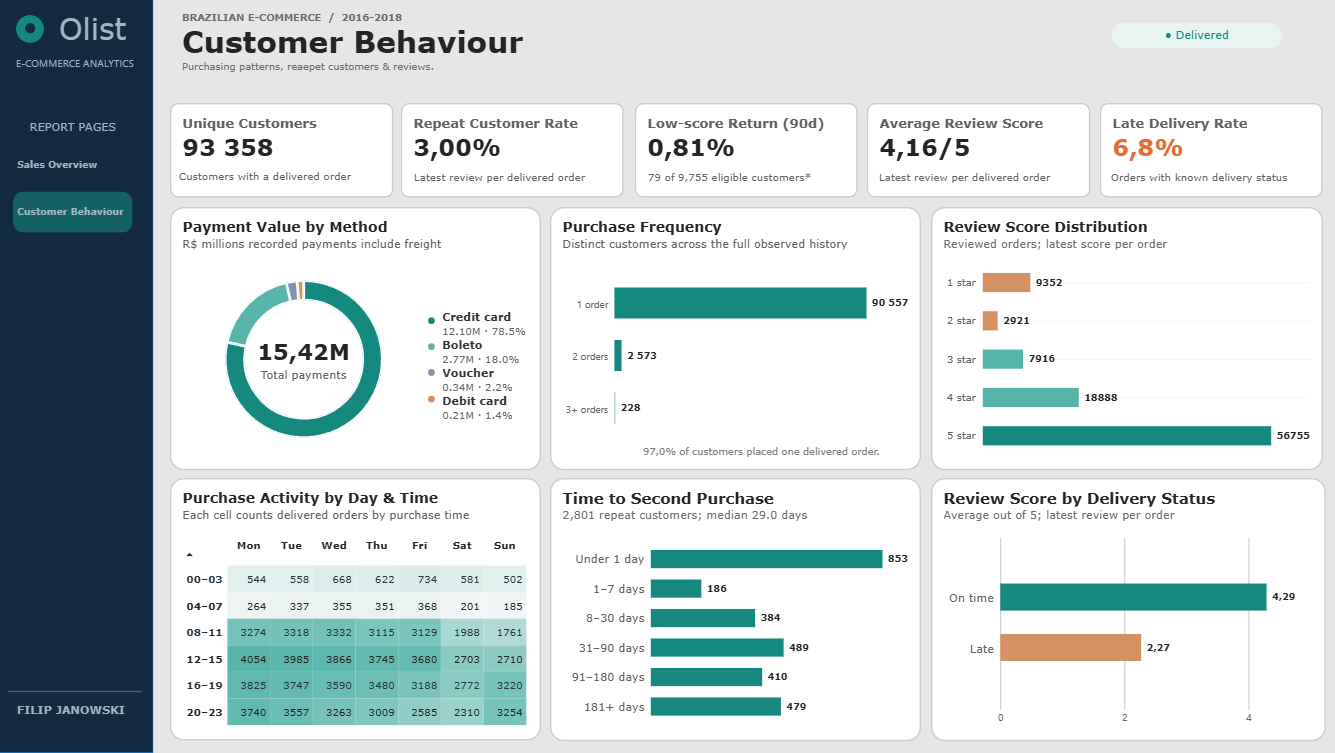

Layout of this report page (visuals, bound fields, positions):
{"tool":"powerbi","page":{"name":"Customer Behaviour","canvas":[1920,1080],"ordinal":1},"visuals":[{"type":"cardVisual","fields":{"Data":["Orders.Late Delivery Rate"]},"box":[1575.3,151.1,318,135],"z":0,"group":"g2"},{"type":"cardVisual","fields":{"Data":["Customer Summary.Unique Customers"]},"box":[247.1,151.4,318.6,135],"z":0,"group":"g1"},{"type":"cardVisual","fields":{"Data":["Customer Summary.Repeat Customer Rate"]},"box":[577.1,151.4,318,135],"z":0,"group":"g5"},{"type":"cardVisual","fields":{"Data":["Orders.Average Review Score1"]},"box":[1242.9,151.4,318.7,135],"z":0,"group":"g4"},{"type":"cardVisual","fields":{"Data":["Customer Summary.Low-score Return (90d)"]},"box":[911.1,151.6,318,135],"z":0,"group":"g3"},{"type":"clusteredBarChart","title":"Time to Second Purchase","fields":{"Category":["Customer Summary.ReturnTimeBand"],"Y":["Customer Summary.Unique Customers"]},"box":[790,687.1,530,375.7],"z":0},{"type":"shape","box":[0,0,223.2,1079.6],"z":1000},{"type":"shape","box":[27.2,25.2,40,40],"z":2000},{"type":"shape","box":[39.7,37.6,15,15],"z":3000},{"type":"pivotTable","title":"Purchase Activity by Day & Time","fields":{"Columns":["Orders.Purchase Weekday"],"Rows":["Orders.Purchase Hour Band"],"Values":["Orders.Delivered Orders"]},"box":[247.1,687.1,530,375],"z":4000},{"type":"textbox","box":[27.1,84.3,170,34.3],"z":5000},{"type":"textbox","box":[263.6,18.2,585.5,110],"z":6000},{"type":"group","id":"g1","title":"Group 1","box":[247.1,151.4,318.6,134.3],"z":7000},{"type":"group","id":"g2","title":"Group 2","box":[1575.3,151.1,318,135],"z":8000},{"type":"group","id":"g3","title":"Group 2","box":[911.1,151.6,318.4,135.8],"z":9000},{"type":"pageNavigator","title":"REPORT PAGES","box":[22.9,175.7,171.4,162.9],"z":10000},{"type":"textbox","box":[88.3,18.3,123.3,66.7],"z":11000},{"type":"actionButton","box":[1592.9,37.1,242.9,35.7],"z":13000},{"type":"textbox","box":[1590.5,246.4,294.9,28.6],"z":13000,"group":"g2"},{"type":"textbox","box":[596.1,246.7,277.4,29.7],"z":13000,"group":"g5"},{"type":"textbox","box":[929,247,249.8,28.8],"z":13000,"group":"g3"},{"type":"textbox","box":[1259.6,247.1,277.5,22.5],"z":13000,"group":"g4"},{"type":"textbox","box":[259.3,245.1,289.6,30.8],"z":14000,"group":"g1"},{"type":"textbox","box":[28.6,1008,164.3,34.3],"z":14000},{"type":"shape","box":[15,975,191.4,32.9],"z":15000},{"type":"donutChart","title":"Payment Value by Method","fields":{"Category":["Payments.payment_type"],"Y":["Payments.Payment Value"]},"box":[247.1,300,530,375.7],"z":17000,"group":"g6"},{"type":"clusteredBarChart","title":"Purchase Frequency","fields":{"Category":["Customer Summary.FrequencyGroup"],"Y":["Customer Summary.Unique Customers"]},"box":[790,300,530,375.7],"z":17000},{"type":"clusteredBarChart","title":"Review Score Distribution","fields":{"Category":["Orders.review_score"],"Y":["Orders.Reviewed Orders"]},"box":[1334.3,300,560,375.7],"z":18000},{"type":"clusteredBarChart","title":"Review Score by Delivery Status","fields":{"Category":["Orders.Delivery Timeliness"],"Y":["Orders.Average Review Score"]},"box":[1334.3,687.1,564.3,375.7],"z":19000},{"type":"group","id":"g4","title":"Group 2","box":[1242.9,151.4,318.7,135],"z":20000},{"type":"group","id":"g5","title":"Group 2","box":[577.1,151.4,318.6,135.7],"z":21000},{"type":"group","id":"g6","title":"Group 3","box":[247.1,300,530,375.7],"z":22000},{"type":"cardVisual","title":"Credit card","fields":{"Data":["Payments.Payment Legend Details"]},"box":[619.7,446.6,160,40],"z":23000},{"type":"cardVisual","title":"Credit card","fields":{"Data":["Payments.Payment Legend Details"]},"box":[619.7,486.6,160,40],"z":24000},{"type":"cardVisual","title":"Credit card","fields":{"Data":["Payments.Payment Legend Details"]},"box":[619.7,526.6,160,40],"z":25000},{"type":"cardVisual","title":"Credit card","fields":{"Data":["Payments.Payment Legend Details"]},"box":[619.7,566.6,160,40],"z":26000}]}

Visuals, with their boxes on the page's 1920x1080 design canvas (x1, y1, x2, y2). These are canvas units, not pixel positions in the 1335x753 screenshot, which may show the page scaled, cropped or inside an application window:
cardVisual - Orders.Late Delivery Rate: (1575,151,1893,286)
cardVisual - Customer Summary.Unique Customers: (247,151,566,286)
cardVisual - Customer Summary.Repeat Customer Rate: (577,151,895,286)
cardVisual - Orders.Average Review Score1: (1243,151,1562,286)
cardVisual - Customer Summary.Low-score Return (90d): (911,152,1229,287)
"Time to Second Purchase" clusteredBarChart: (790,687,1320,1063)
shape: (0,0,223,1080)
shape: (27,25,67,65)
shape: (40,38,55,53)
"Purchase Activity by Day & Time" pivotTable: (247,687,777,1062)
textbox: (27,84,197,119)
textbox: (264,18,849,128)
"Group 1" group: (247,151,566,286)
"Group 2" group: (1575,151,1893,286)
"Group 2" group: (911,152,1230,287)
"REPORT PAGES" pageNavigator: (23,176,194,339)
textbox: (88,18,212,85)
actionButton: (1593,37,1836,73)
textbox: (1590,246,1885,275)
textbox: (596,247,874,276)
textbox: (929,247,1179,276)
textbox: (1260,247,1537,270)
textbox: (259,245,549,276)
textbox: (29,1008,193,1042)
shape: (15,975,206,1008)
"Payment Value by Method" donutChart: (247,300,777,676)
"Purchase Frequency" clusteredBarChart: (790,300,1320,676)
"Review Score Distribution" clusteredBarChart: (1334,300,1894,676)
"Review Score by Delivery Status" clusteredBarChart: (1334,687,1899,1063)
"Group 2" group: (1243,151,1562,286)
"Group 2" group: (577,151,896,287)
"Group 3" group: (247,300,777,676)
"Credit card" cardVisual: (620,447,780,487)
"Credit card" cardVisual: (620,487,780,527)
"Credit card" cardVisual: (620,527,780,567)
"Credit card" cardVisual: (620,567,780,607)
